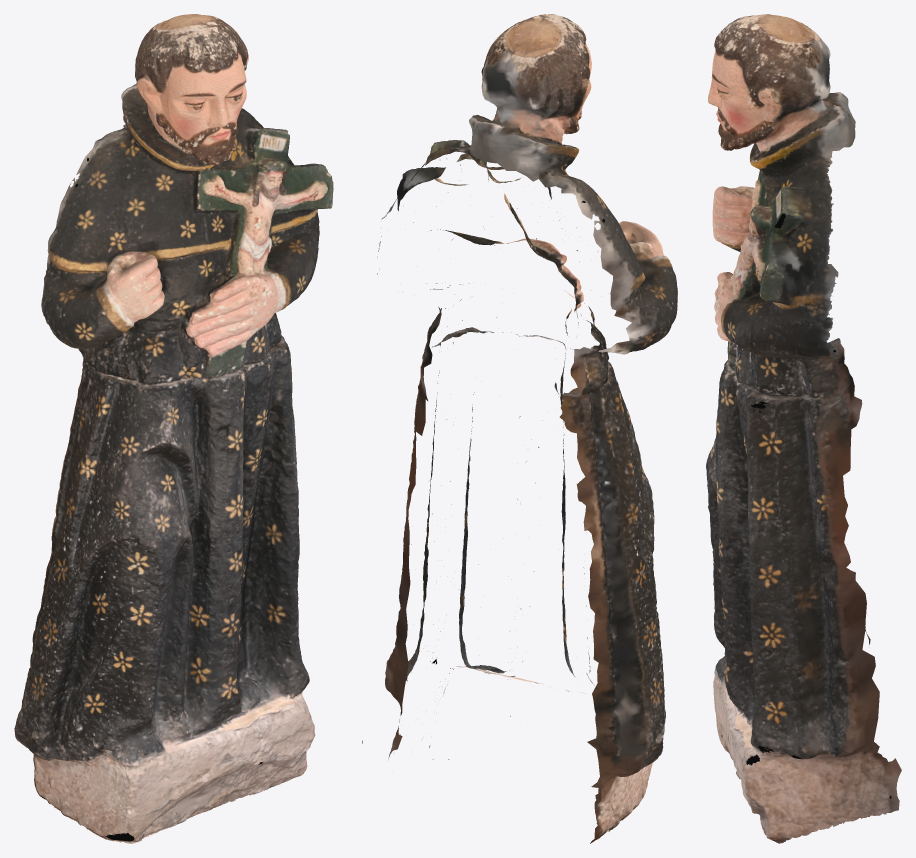
File: borja.glb
3 views of the same model, side by side, from view 1: azimuth 30°, elevation 25°; view 2: azimuth 150°, elevation 25°; view 3: azimuth 270°, elevation 25° (orthographic). The views are drawn at different scales.
Parts seen in each view (by area): view 1: borja; view 2: borja; view 3: borja.
Part boxes in pixels (<box>): borja: <box>14,14,333,843</box>; borja: <box>362,14,677,843</box>; borja: <box>706,14,901,843</box>.
Size of the model in its own units: 5.2 by 13.76 by 3.14.
1 material, 1 textured.
